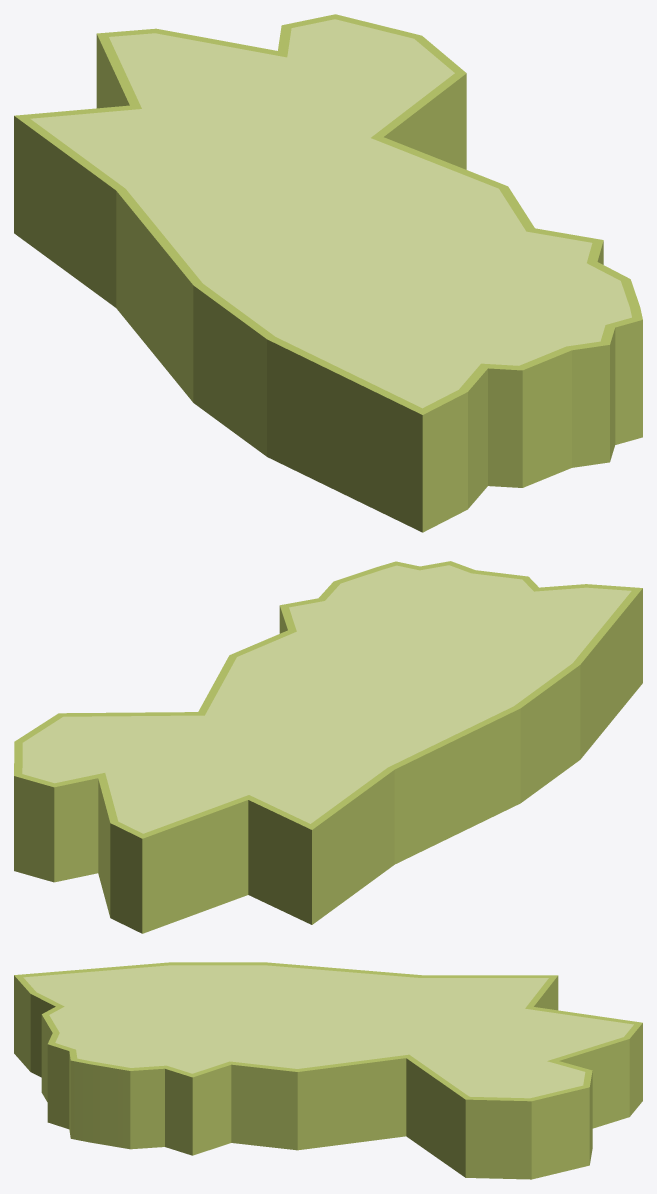
Rendered from Islands3.005.fbx.
3 views of the same model, one above another, from view 1: azimuth 30°, elevation 25°; view 2: azimuth 150°, elevation 25°; view 3: azimuth 270°, elevation 25° (orthographic). The views are drawn at different scales.
Parts seen in each view (by area): view 1: Island3.005; view 2: Island3.005; view 3: Island3.005.
Boxes of the visible parts, x1,y1,x2,y2 form: Island3.005: [14, 14, 642, 532]; Island3.005: [14, 561, 642, 933]; Island3.005: [14, 962, 642, 1179].
Size of the model in its own units: 95.09 by 25 by 182.
